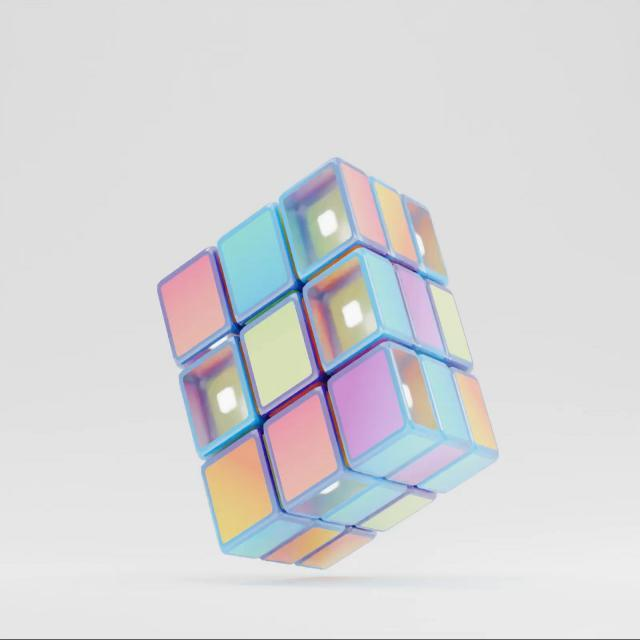Rub: (150, 156, 504, 574)
